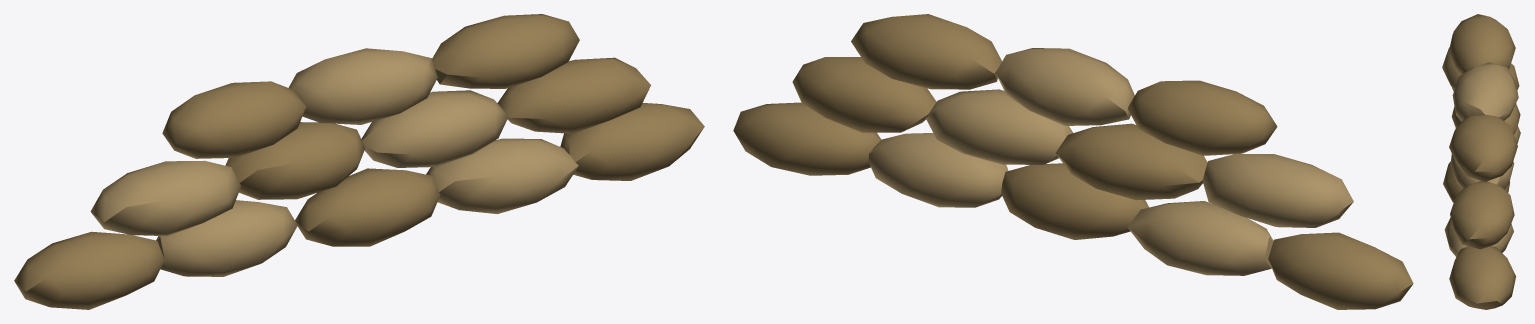
File: sandbags.glb
3 views of the same model, side by side, from view 1: azimuth 30°, elevation 25°; view 2: azimuth 150°, elevation 25°; view 3: azimuth 270°, elevation 25° (orthographic). The views are drawn at different scales.
Visible parts, largest first — view 1: sandbags; view 2: sandbags; view 3: sandbags.
Boxes of the visible parts, x1,y1,x2,y2 form: sandbags: (14,14,704,309); sandbags: (733,14,1413,309); sandbags: (1442,14,1520,309).
Size of the model in its own units: 3.13 by 0.8078 by 0.4283.
